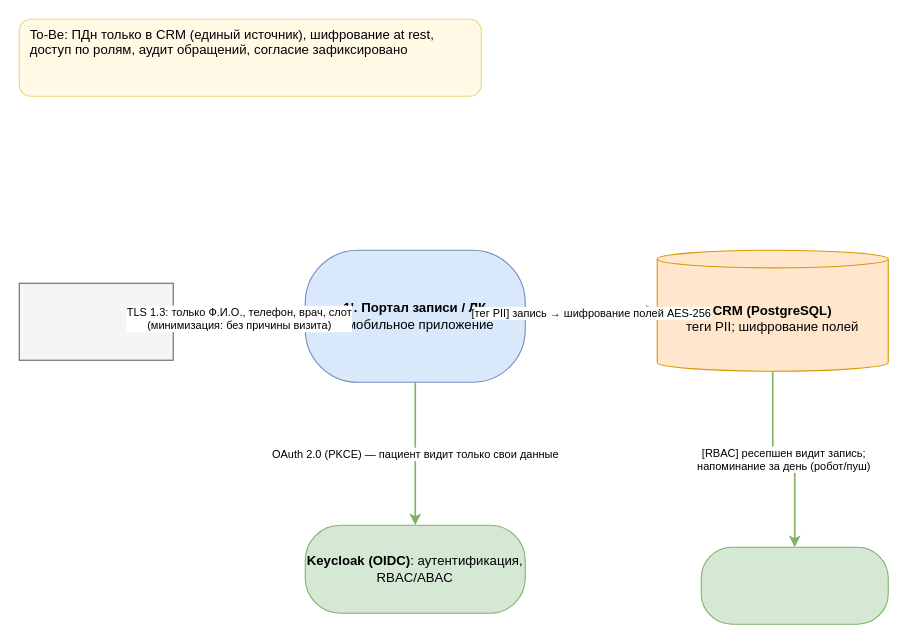
The diagram is 908 pixels wide and 644 high, and some of its shapes have lost their labels. Here are the shapes that lost their labels. From the top down, the centre of each, then its label:
At (x=95, y=321): "Пациент".
At (x=794, y=585): "Портал ресепшена".
